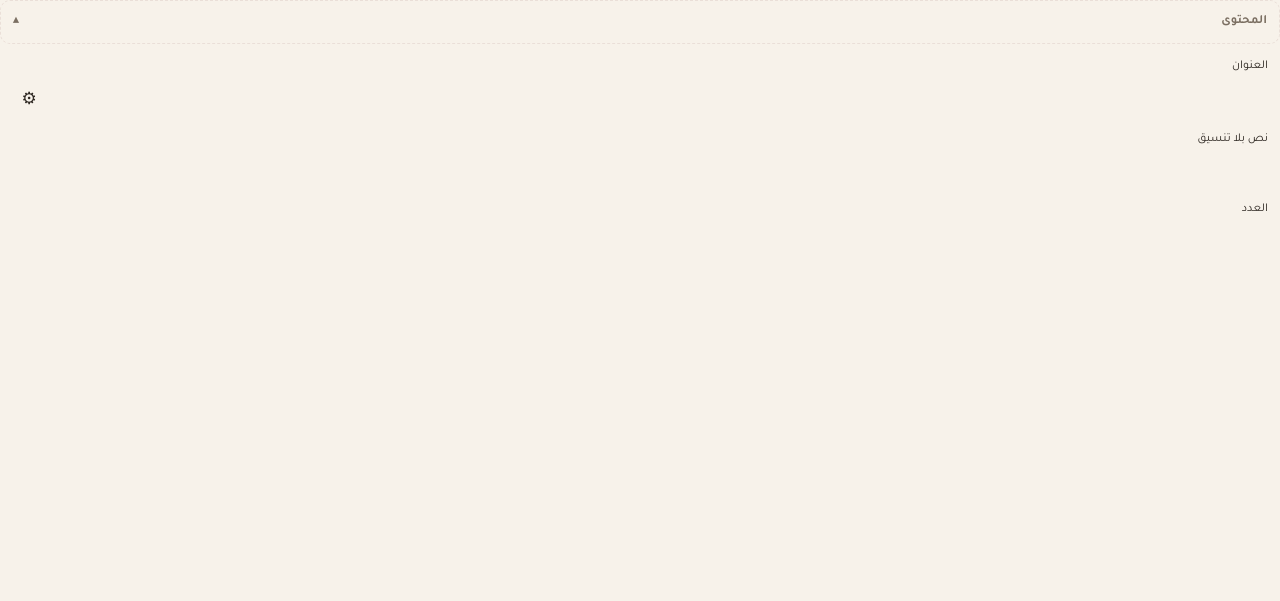
it: text style gear in FieldGroups › opens the panel on click and builds it only then
Click the button named "تنسيق النص: العنوان".
click(29, 99)  # box 12,82 -> 46,116
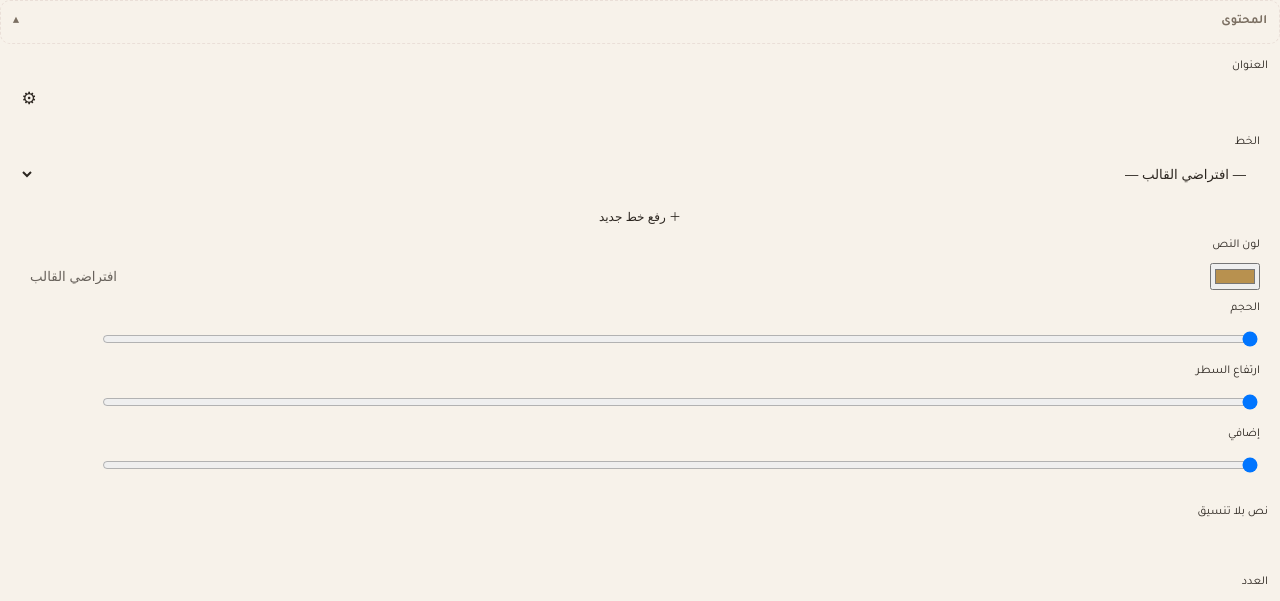
Click the button named "تنسيق النص: العنوان".
click(29, 99)  # box 12,82 -> 46,116
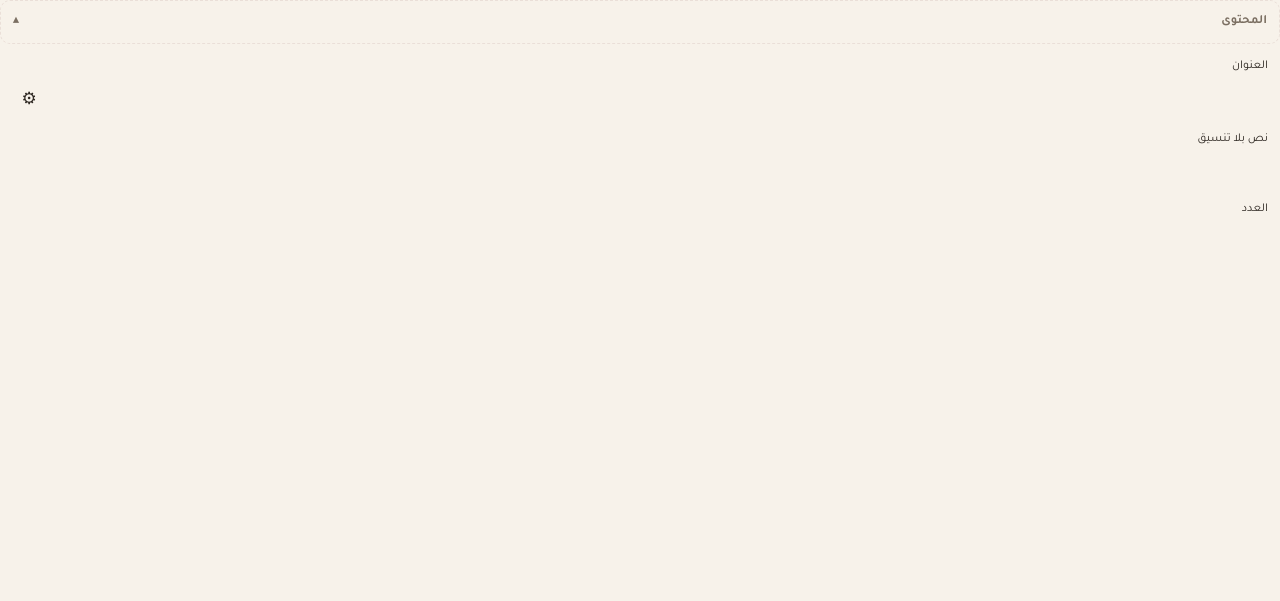
Expected: the element with class "ed-inline-font-panel" is gone
